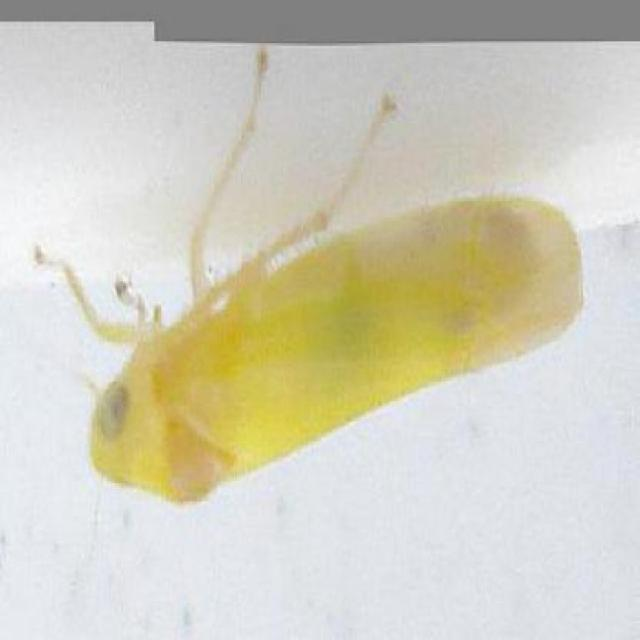green-leafhopper: (84, 171, 582, 498)
